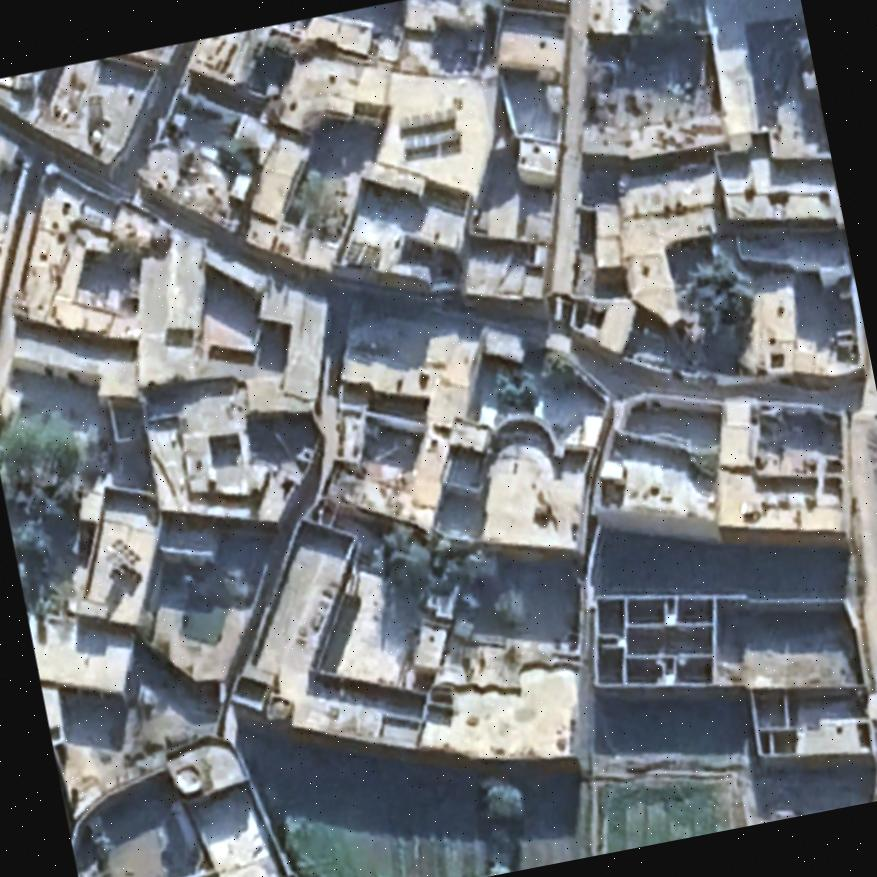Solarpanel: (396, 121, 463, 157), (394, 101, 461, 133), (98, 534, 144, 578)
